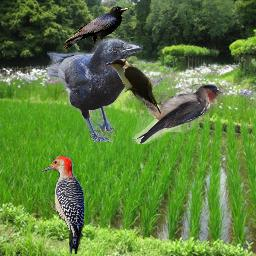Crow: (47, 38, 143, 142), (63, 5, 128, 49)
Cuckoo: (104, 59, 161, 116)
Swallow: (132, 84, 225, 144)
Woodpecker: (41, 155, 85, 254)
